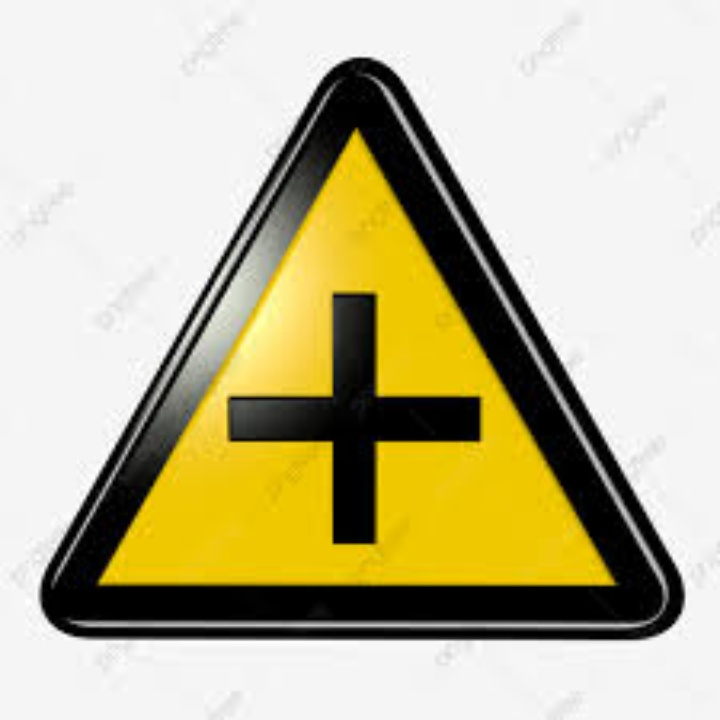inter: (224, 281, 489, 554)
